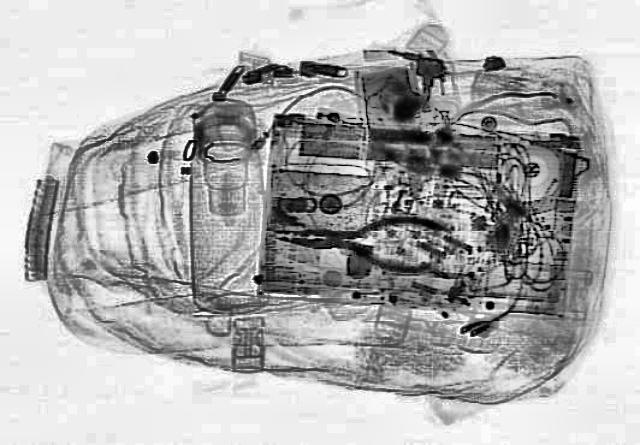Pliers: (272, 204, 446, 274)
